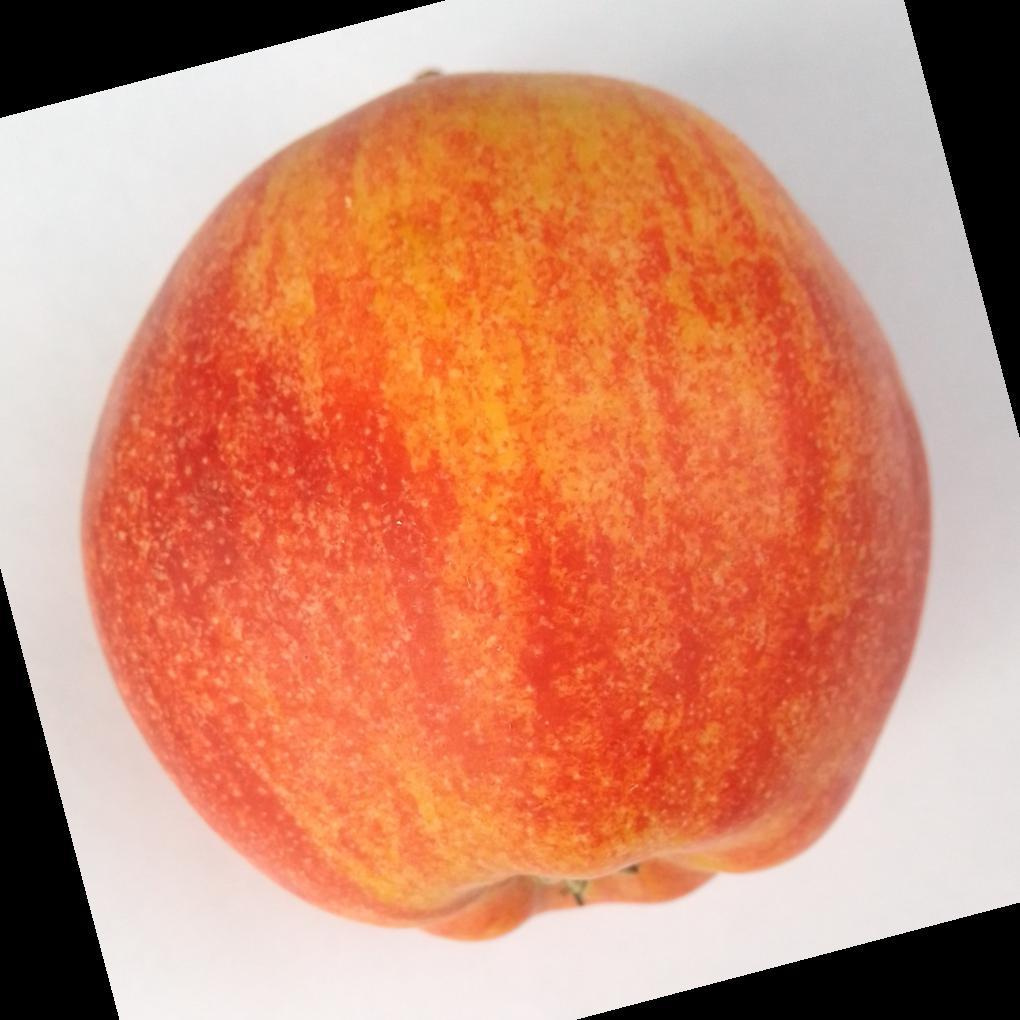FreshGuava: (78, 71, 934, 946)
